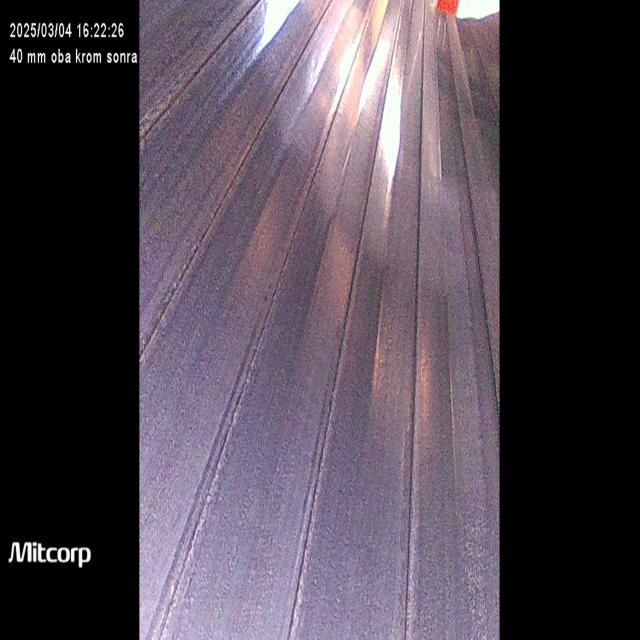hata_8.1: (383, 394, 425, 640)
